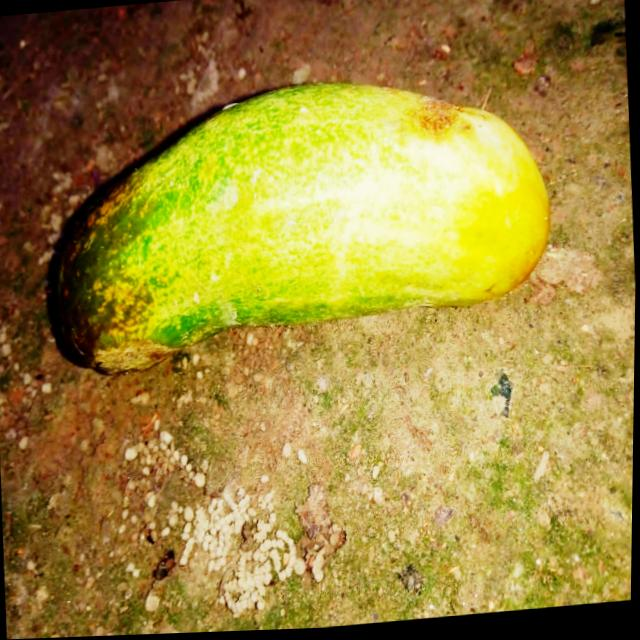Belly-Rot: (397, 87, 488, 154)
